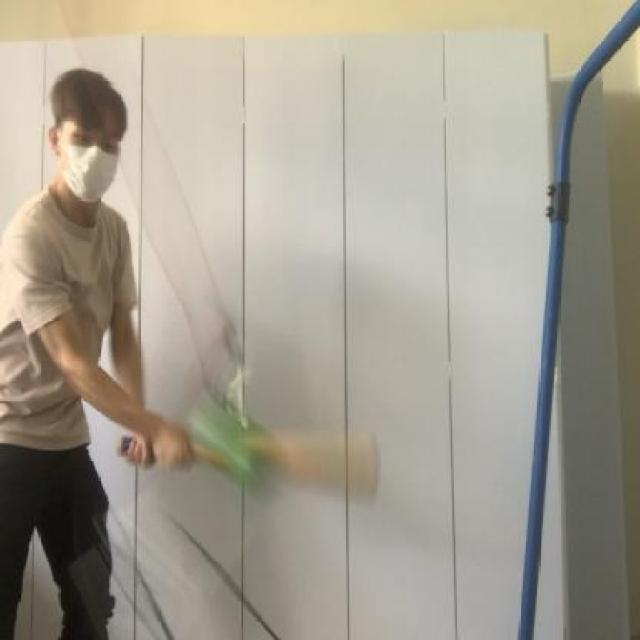baseball: (169, 376, 271, 501)
